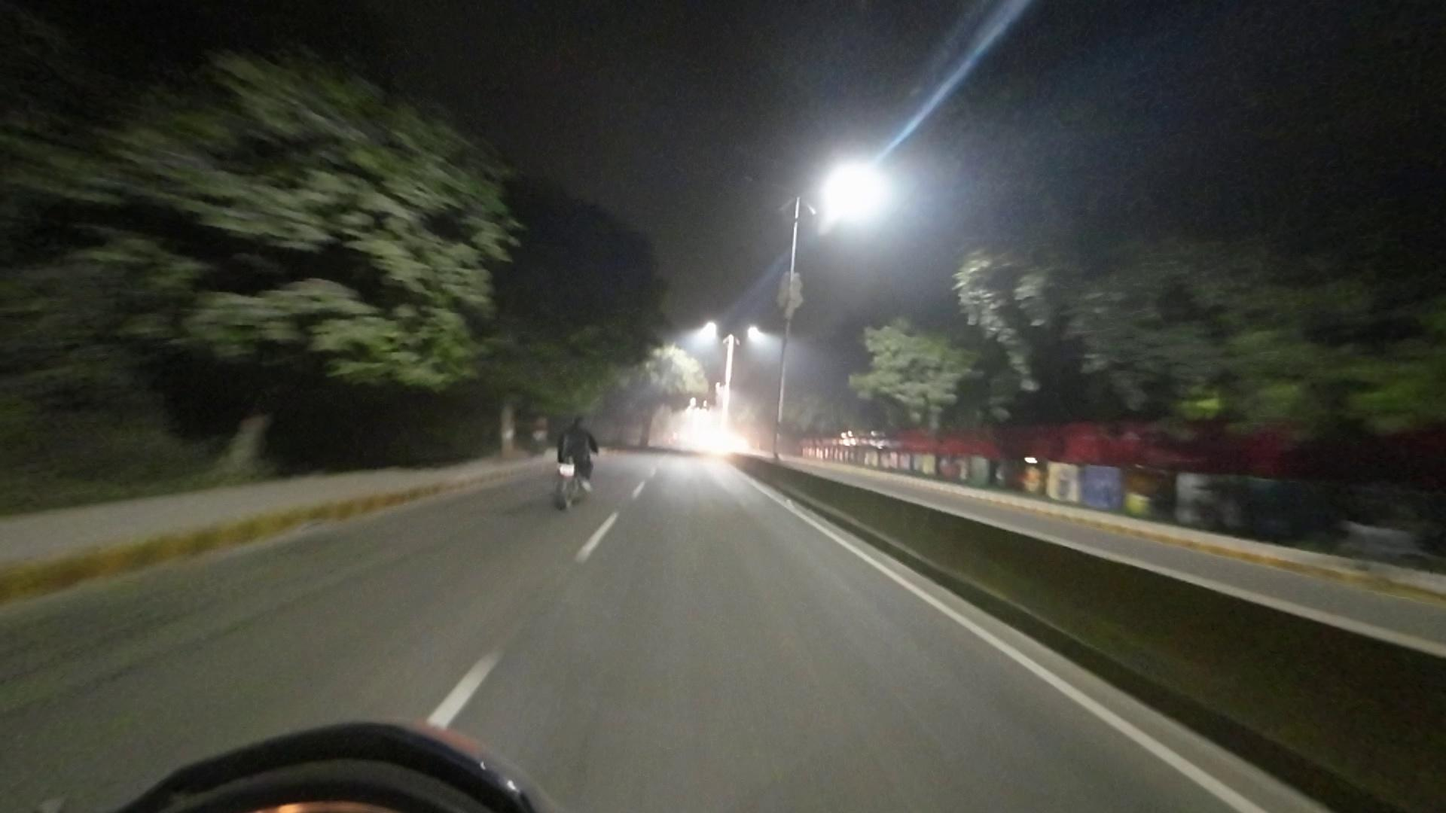streetlight: (739, 168, 791, 193)
